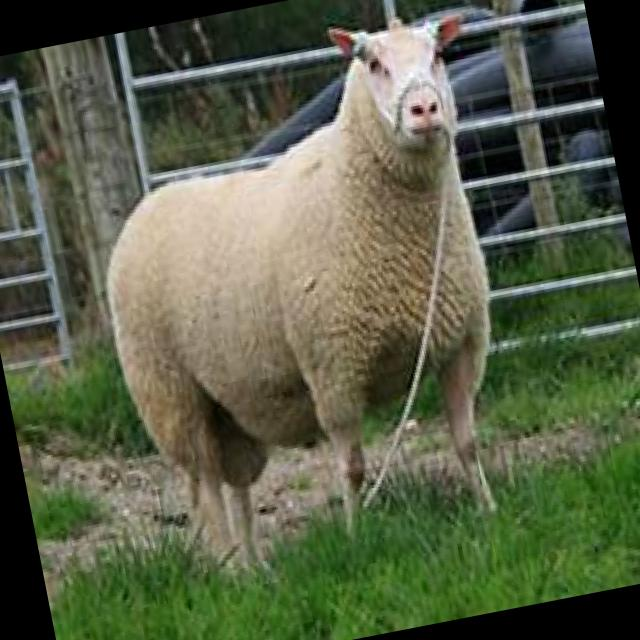animal: (64, 7, 558, 594)
